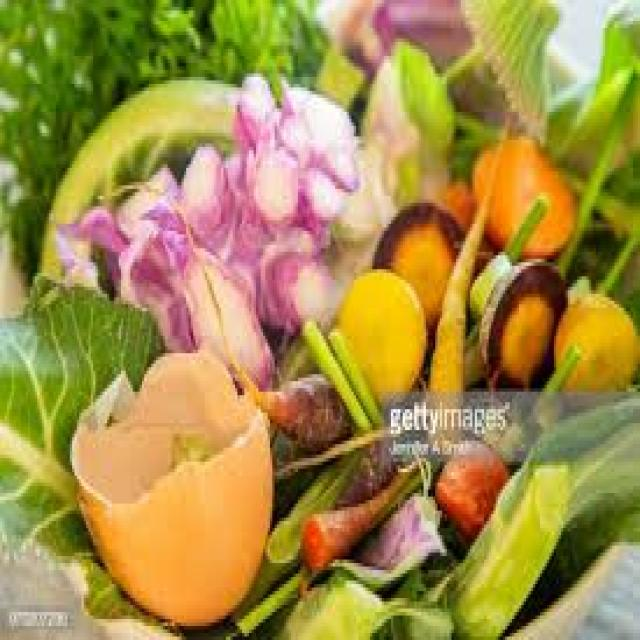food_waste: (60, 354, 367, 610)
